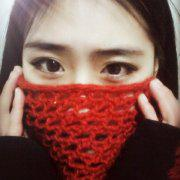WRONG: (16, 37, 149, 170)
